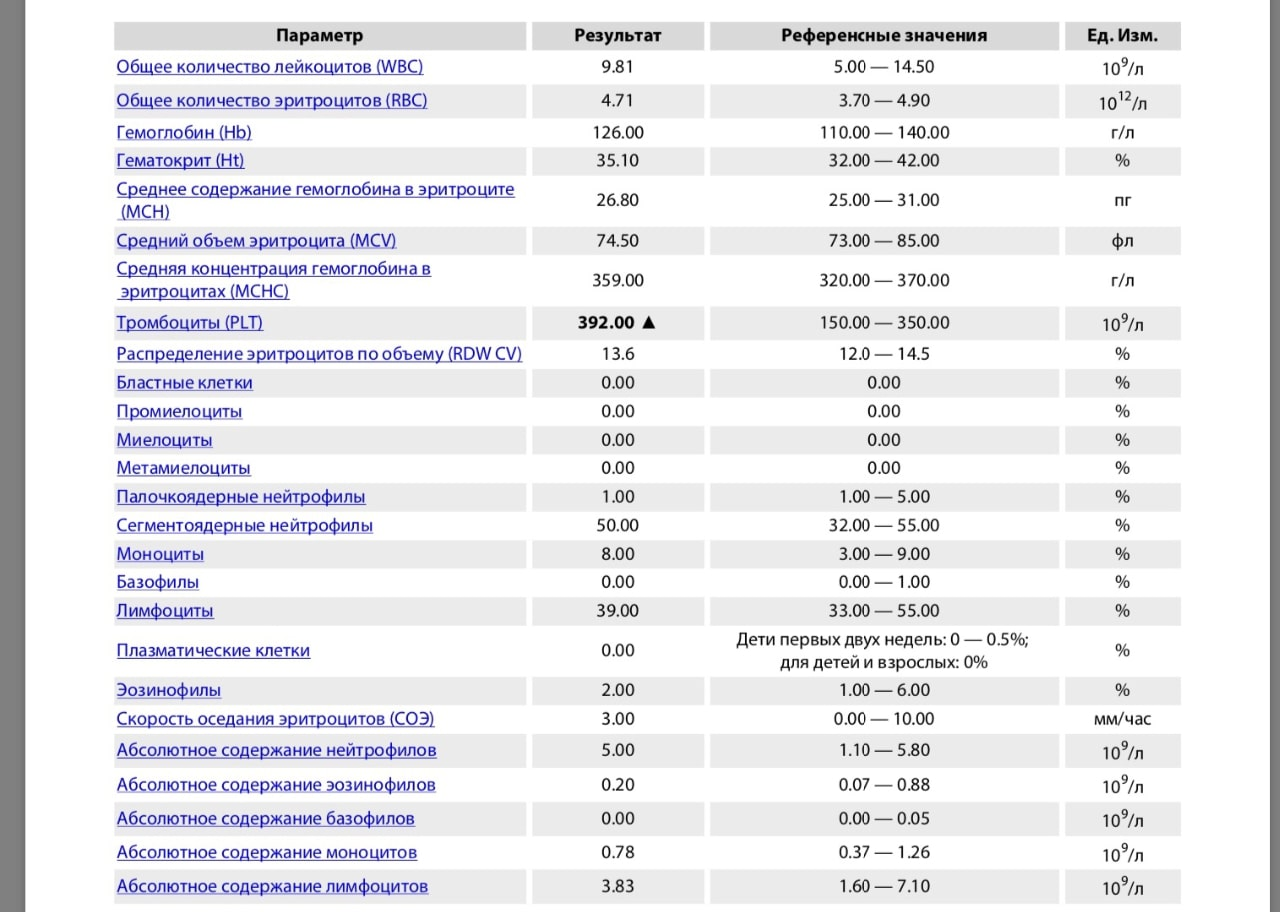column: (115, 27, 521, 895), (735, 27, 1029, 895), (573, 27, 661, 895), (1086, 27, 1159, 895)
